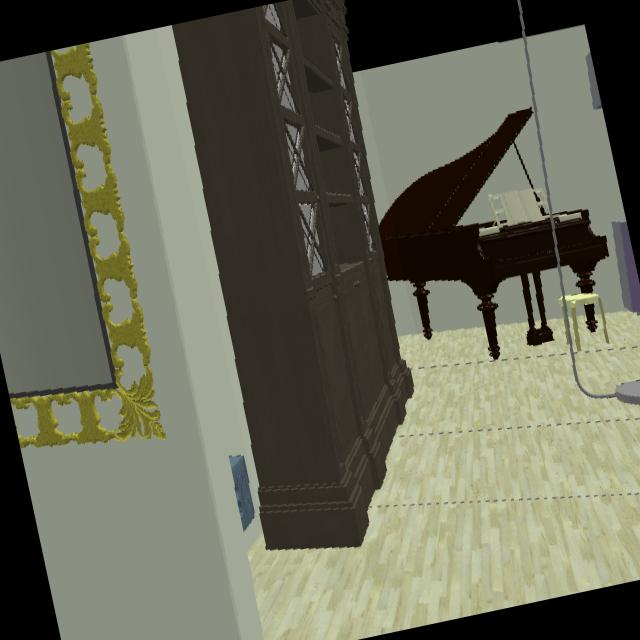bookshelf: (173, 0, 413, 549)
